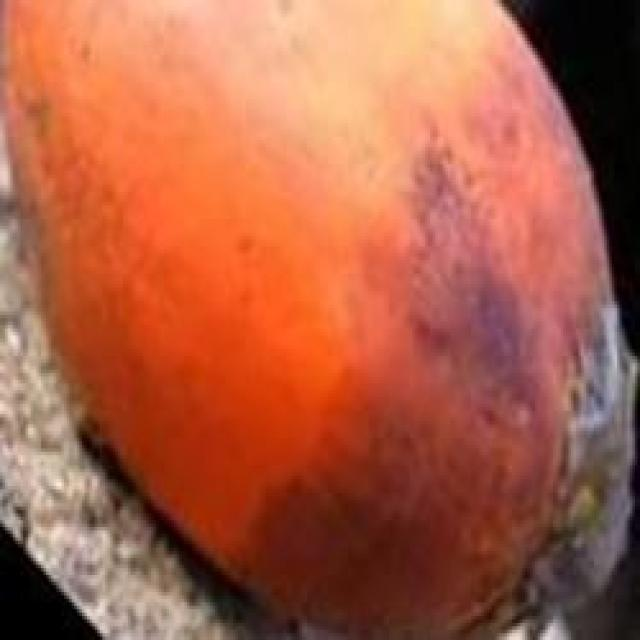good: (0, 0, 637, 637)
